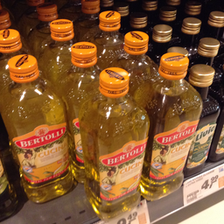oil: (1, 54, 77, 204), (78, 67, 151, 221), (135, 53, 202, 203)
